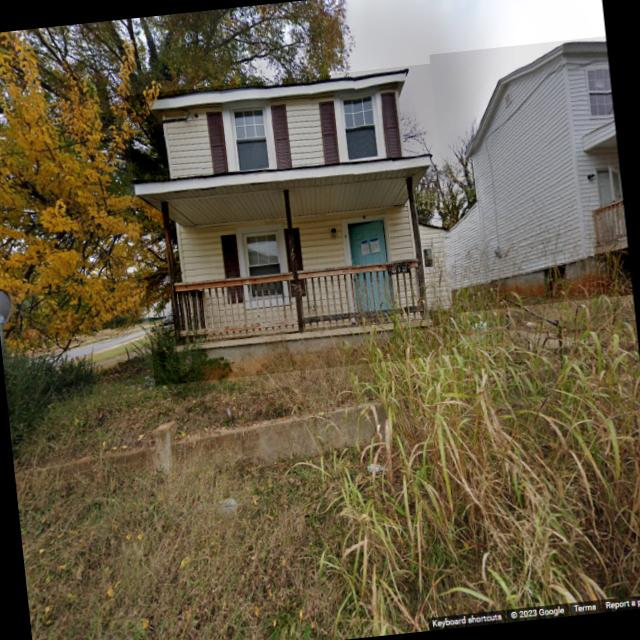House: (124, 63, 460, 386), (429, 35, 639, 313)
